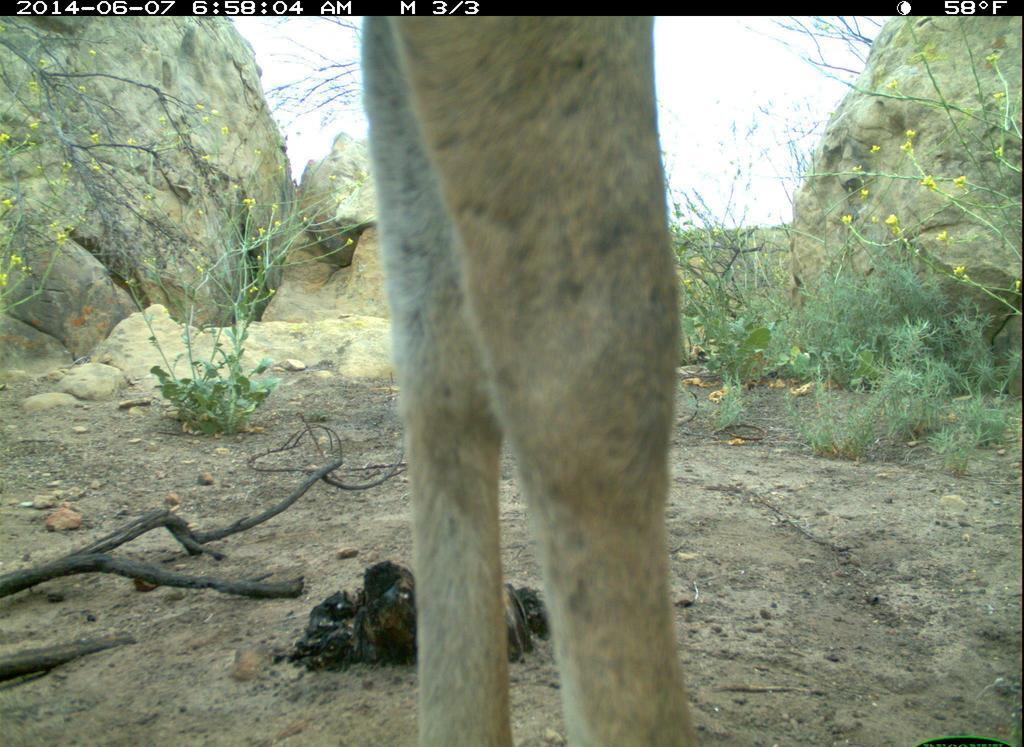deer: (346, 16, 705, 747)
